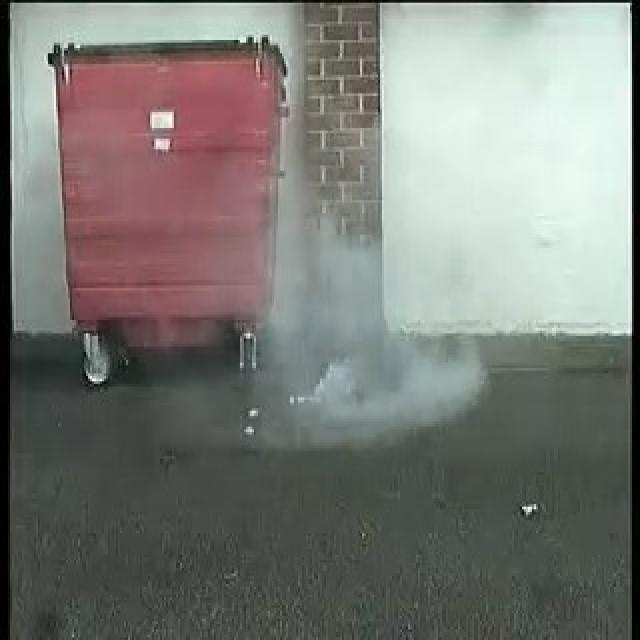smoke: (276, 238, 486, 430)
